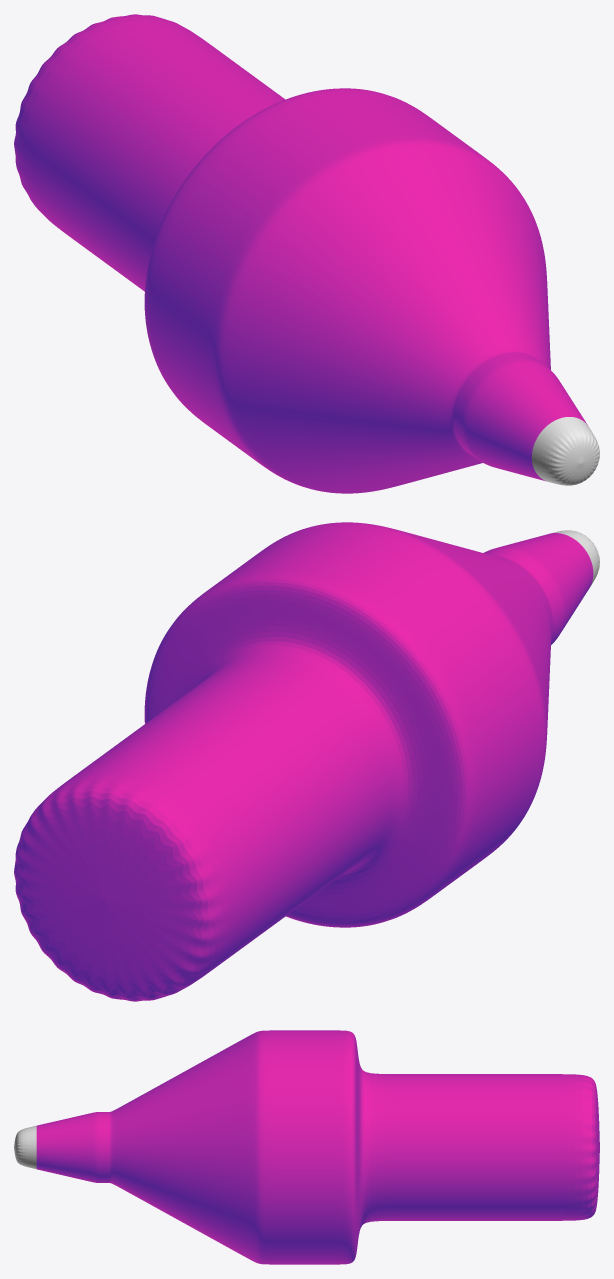
Rendered from Muzzle.fbx.
The picture shows the model from 3 angles, top to bottom: view 1: azimuth 30°, elevation 25°; view 2: azimuth 150°, elevation 25°; view 3: azimuth 270°, elevation 25°; orthographic projection. The views are drawn at different scales.
Parts seen in each view (by area): view 1: Cylinder.005; view 2: Cylinder.005; view 3: Cylinder.005.
Part boxes in pixels (<box>): Cylinder.005: <box>14,14,599,493</box>; Cylinder.005: <box>14,522,599,1001</box>; Cylinder.005: <box>14,1030,599,1264</box>.
Size of the model in its own units: 33.76 by 33.76 by 84.53.
